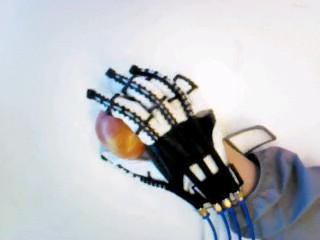apple: (93, 105, 147, 160)
hand: (84, 64, 241, 217)
